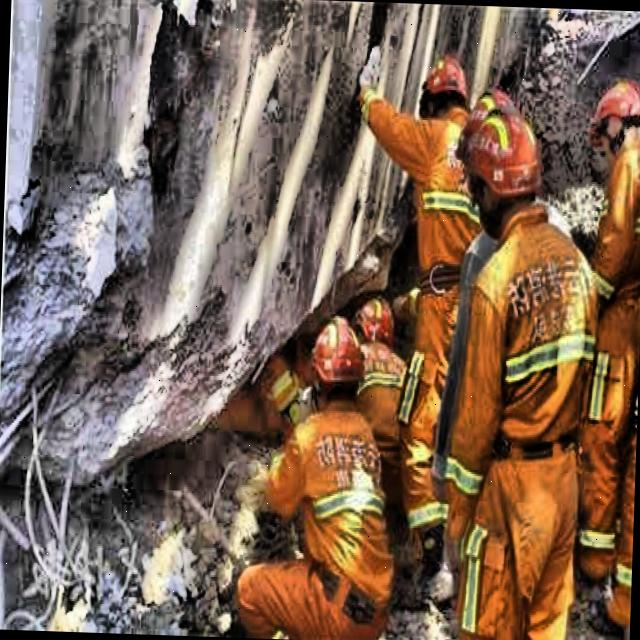helmet: (458, 100, 542, 238), (308, 316, 371, 404), (416, 58, 474, 132), (593, 79, 640, 164), (347, 293, 395, 359)
